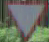Give way: (5, 3, 47, 41)
